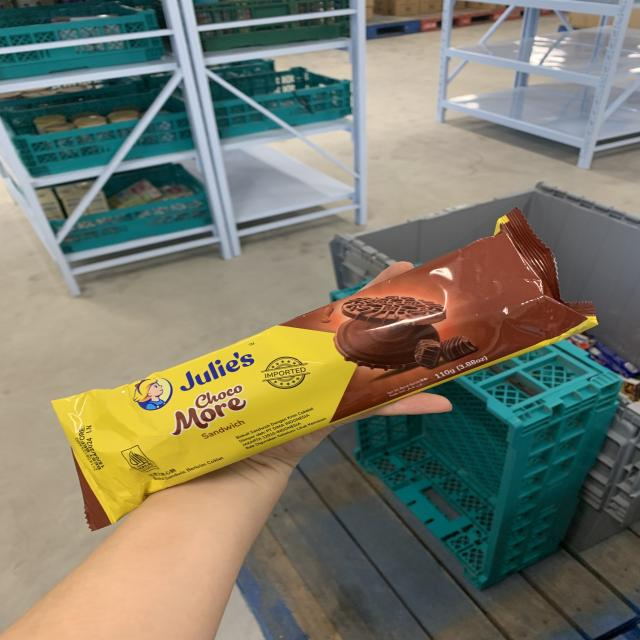object_name: (51, 238, 518, 505)
